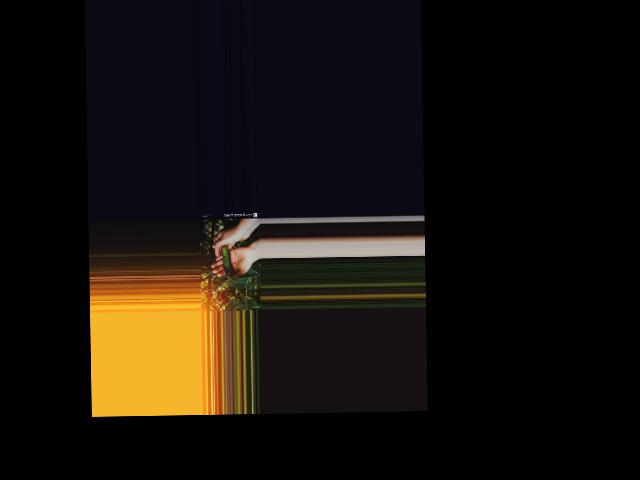cucumber: (221, 246, 233, 276)
